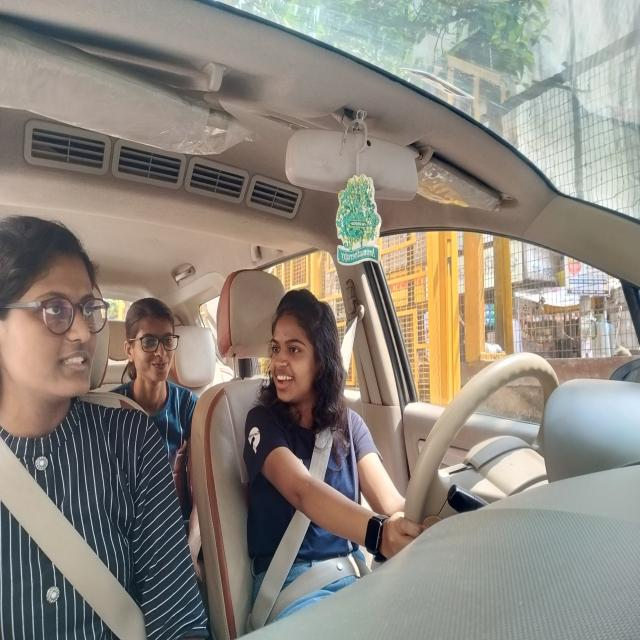LeftRight: (270, 286, 344, 423)
person: (0, 209, 108, 432), (125, 297, 179, 394)
talking: (59, 345, 92, 378), (272, 371, 294, 390)
